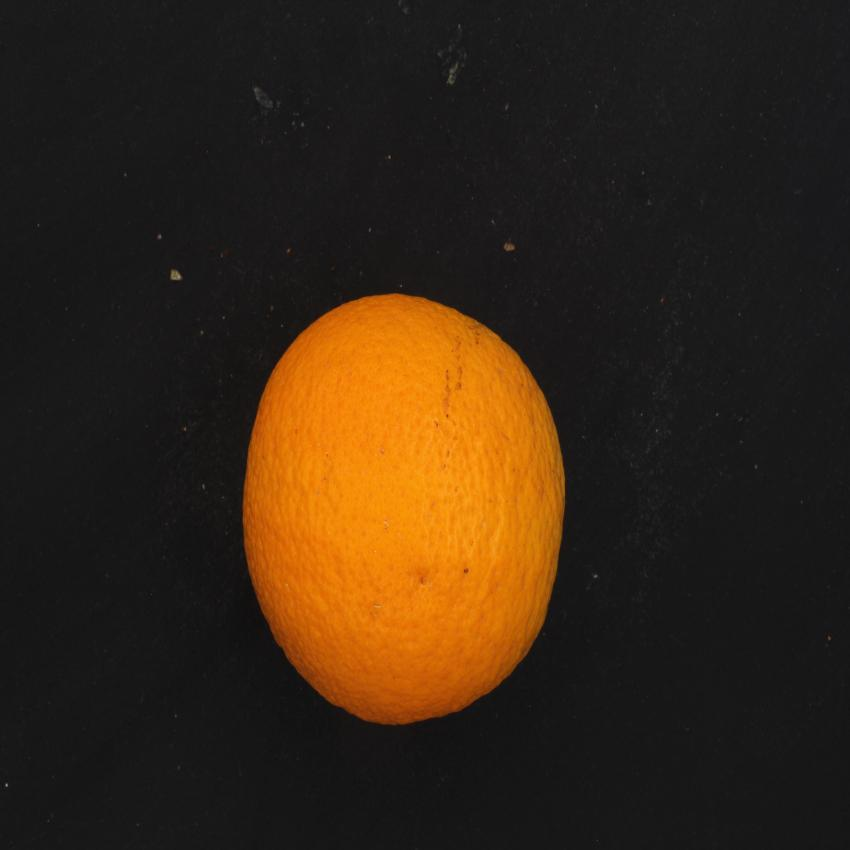Buen estado: (238, 278, 572, 733)
